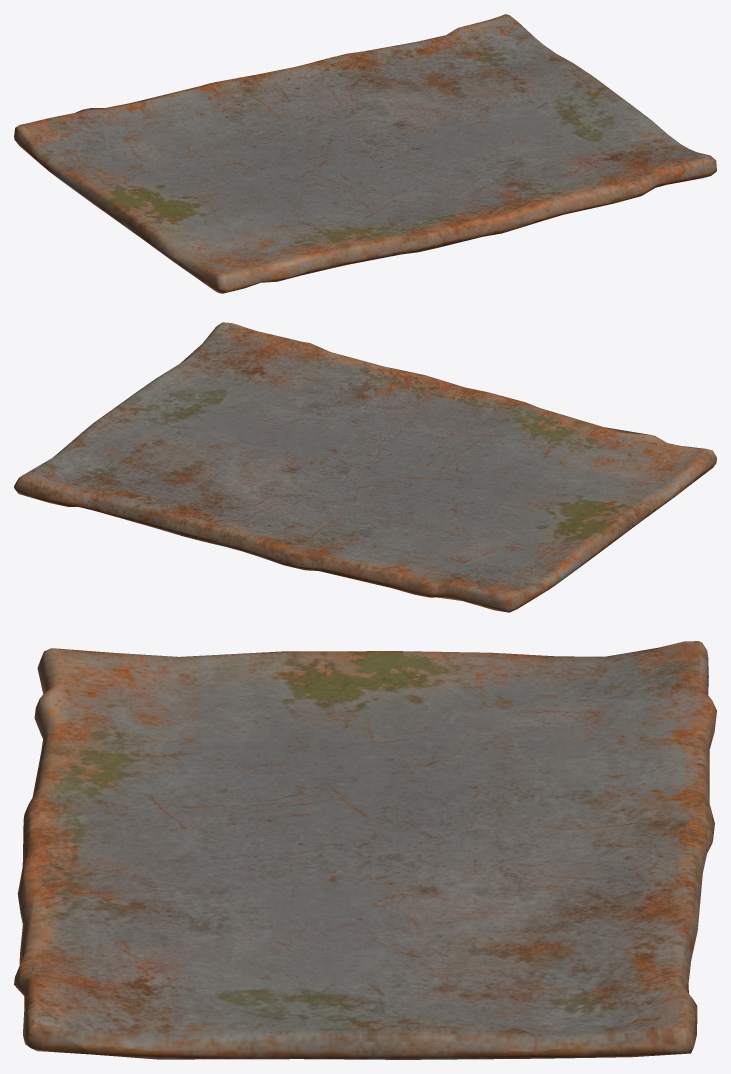
Rendered from bent_steel_plate.glb.
3 renders of one model, top to bottom at view 1: azimuth 30°, elevation 25°; view 2: azimuth 150°, elevation 25°; view 3: azimuth 270°, elevation 25°, orthographic. The views are drawn at different scales.
Size of the model in its own units: 0.55 by 0.025 by 0.417.
Materials: 1 (1 with a texture image).
